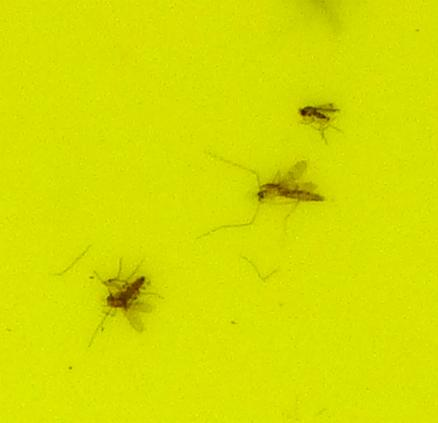Brachycera: (299, 100, 338, 128)
Nematocera: (251, 160, 322, 204), (100, 273, 149, 323)
